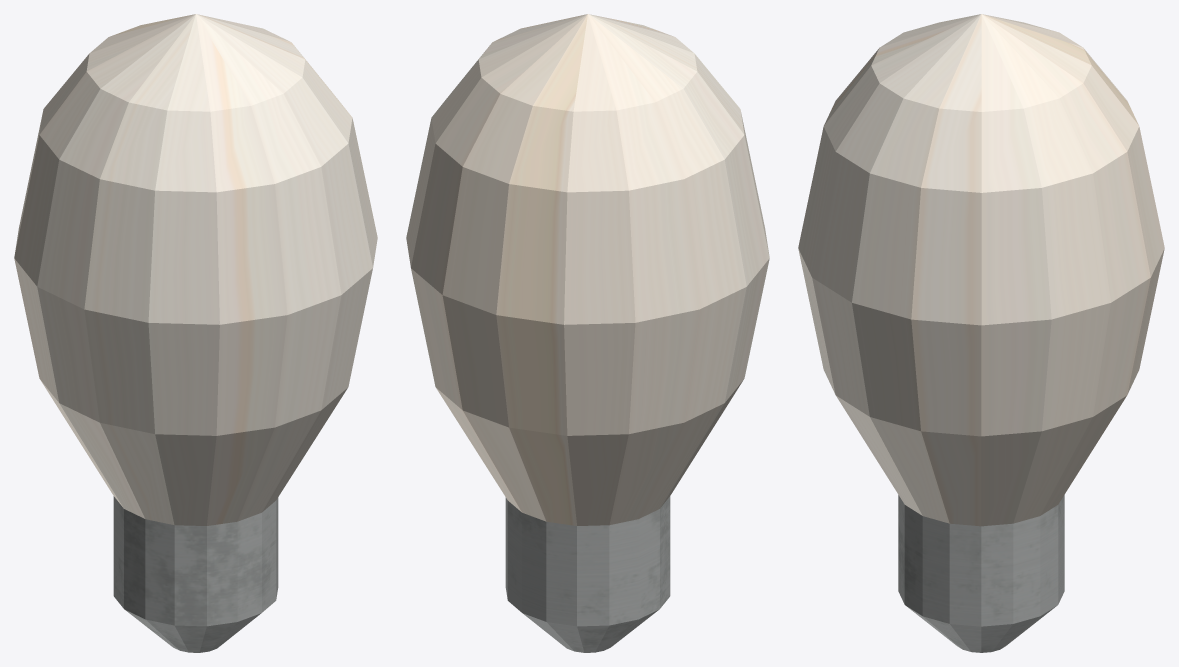
The model's file is lampada.fbx.
The picture shows the model from 3 angles, left to right: view 1: azimuth 30°, elevation 25°; view 2: azimuth 150°, elevation 25°; view 3: azimuth 270°, elevation 25°; orthographic projection.
Parts seen in each view (by area): view 1: Cylinder; view 2: Cylinder; view 3: Cylinder.
Boxes of the visible parts, box(x1,y1,x2,y2) form: Cylinder: box(14, 14, 377, 652); Cylinder: box(406, 14, 769, 652); Cylinder: box(798, 14, 1164, 652).
Bounding box in the file's own units: 122 × 231 × 122.
2 materials, 2 textured.
